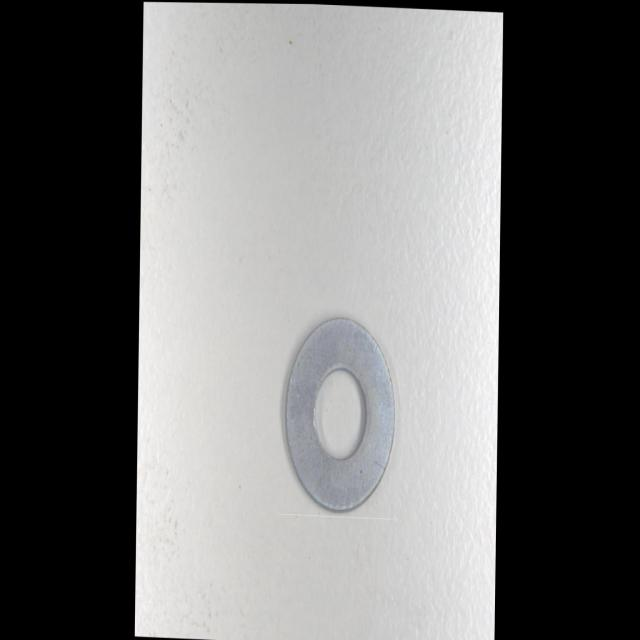washer: (281, 311, 396, 518)
